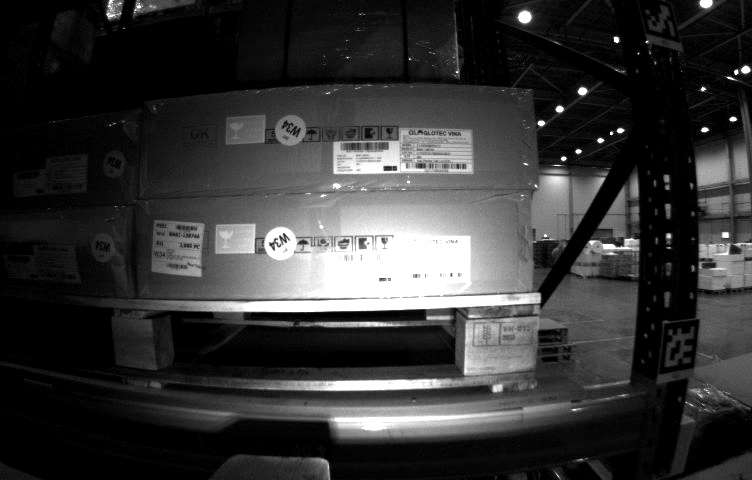True Barcode: (152, 218, 206, 276)
